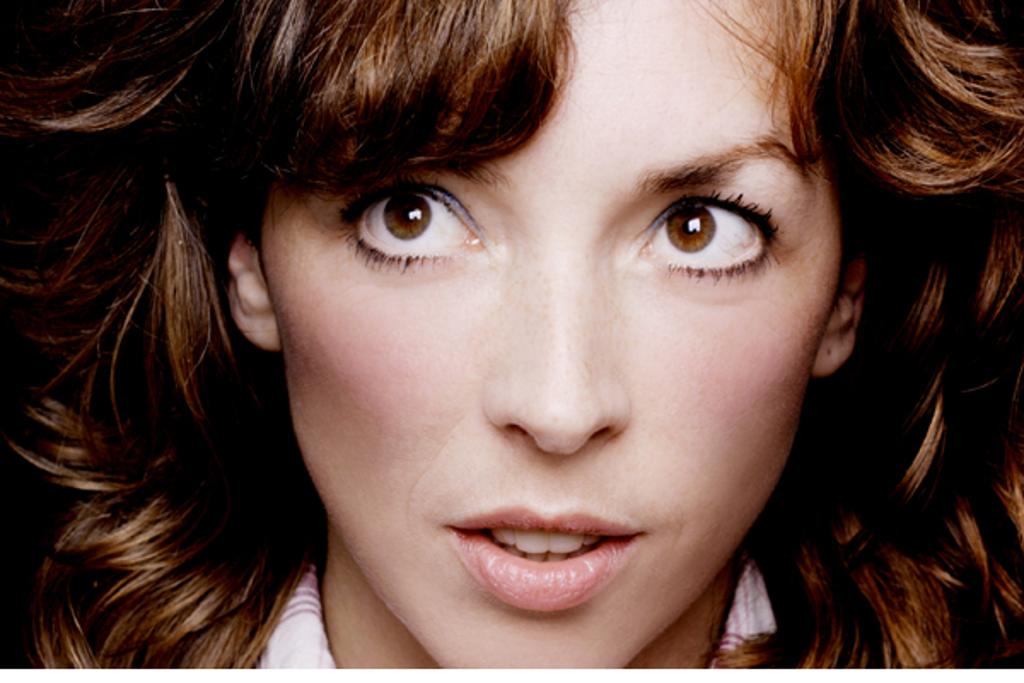face: (254, 8, 844, 668)
